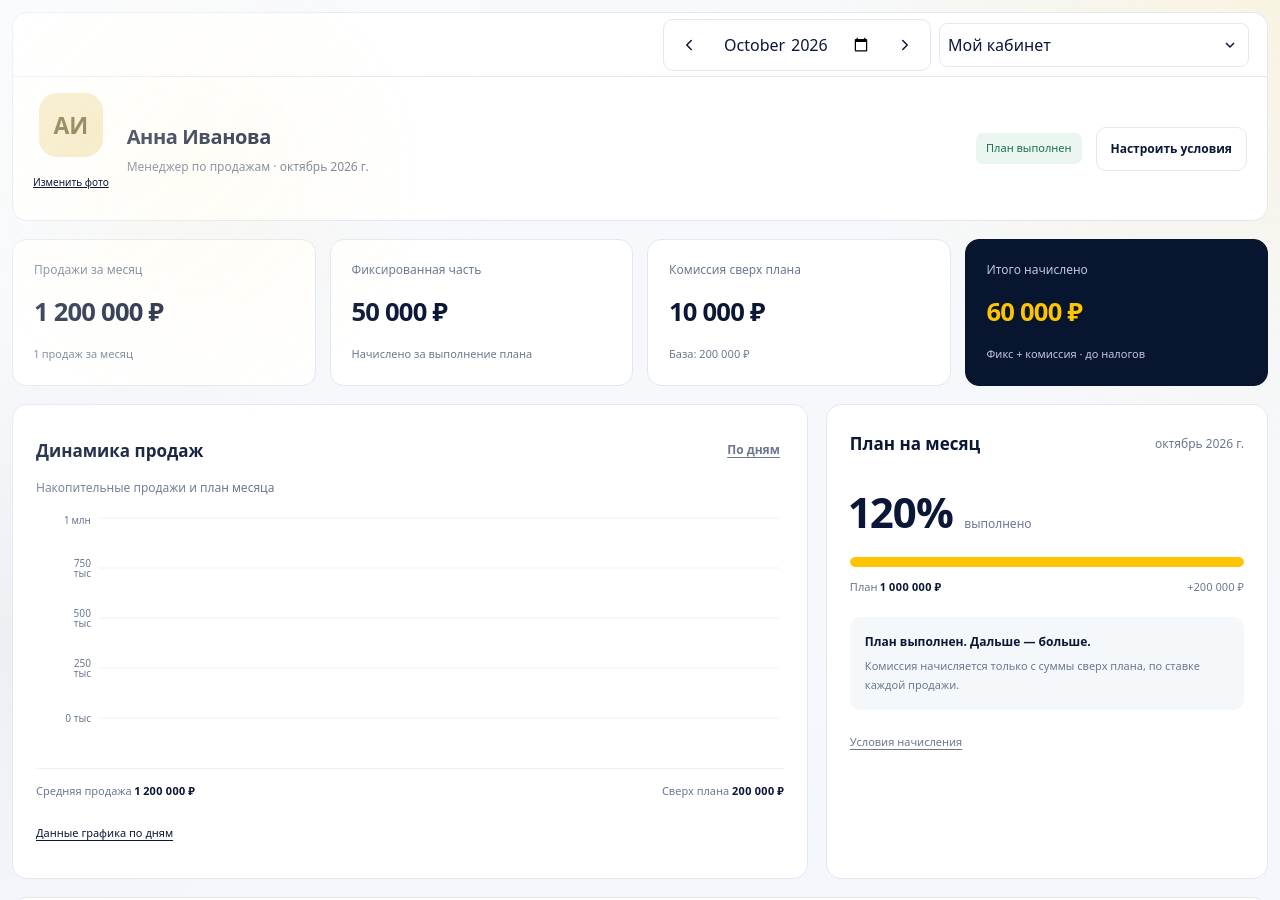
Test: manager cabinet async interactions › rejects a rate above 100 before showing a successful preview
Click the button "Настроить условия" at (1171, 148), box [1096, 126, 1247, 170]
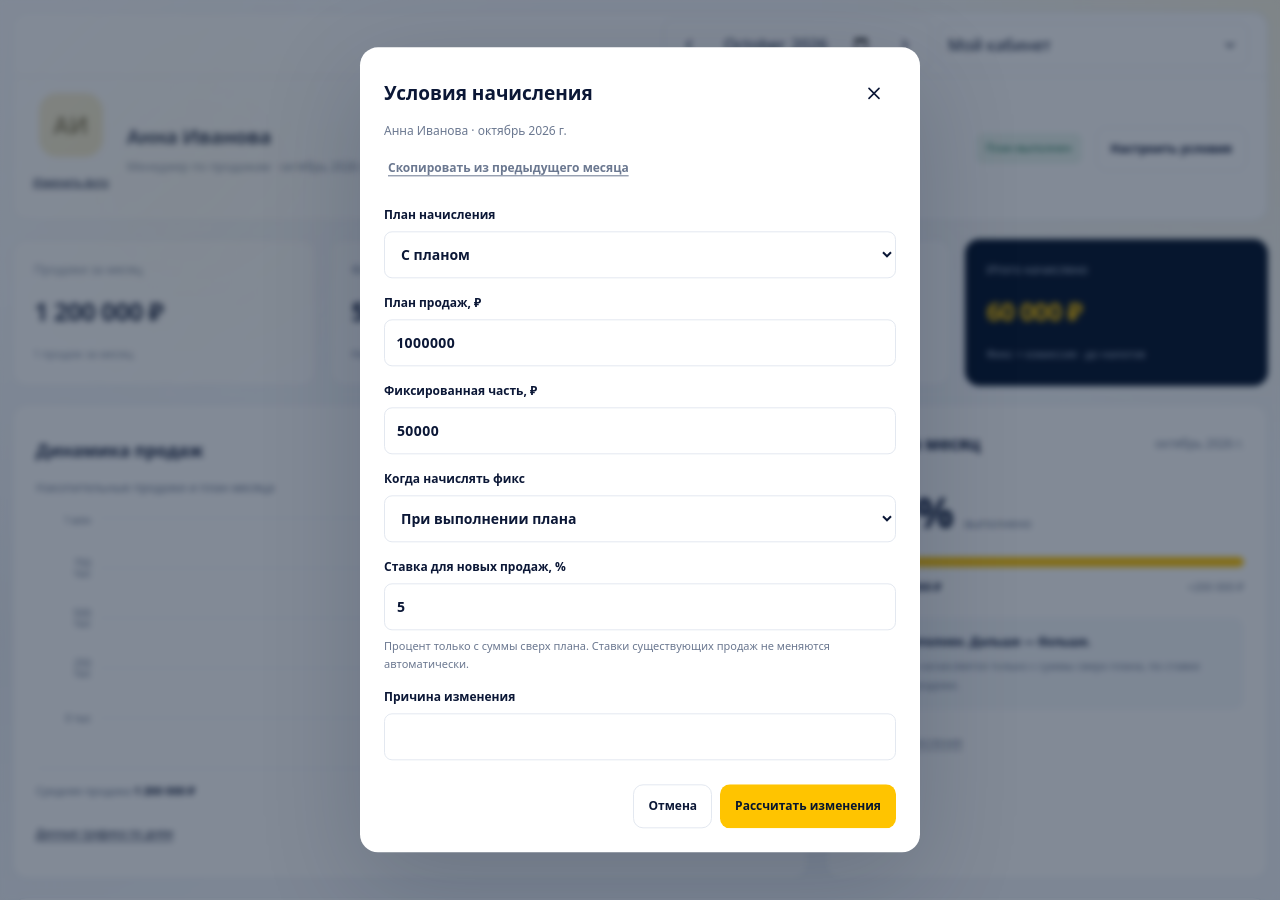
Type "Проверка ставки" into the field labelled "Причина изменения" at (640, 737), box [384, 714, 896, 761]
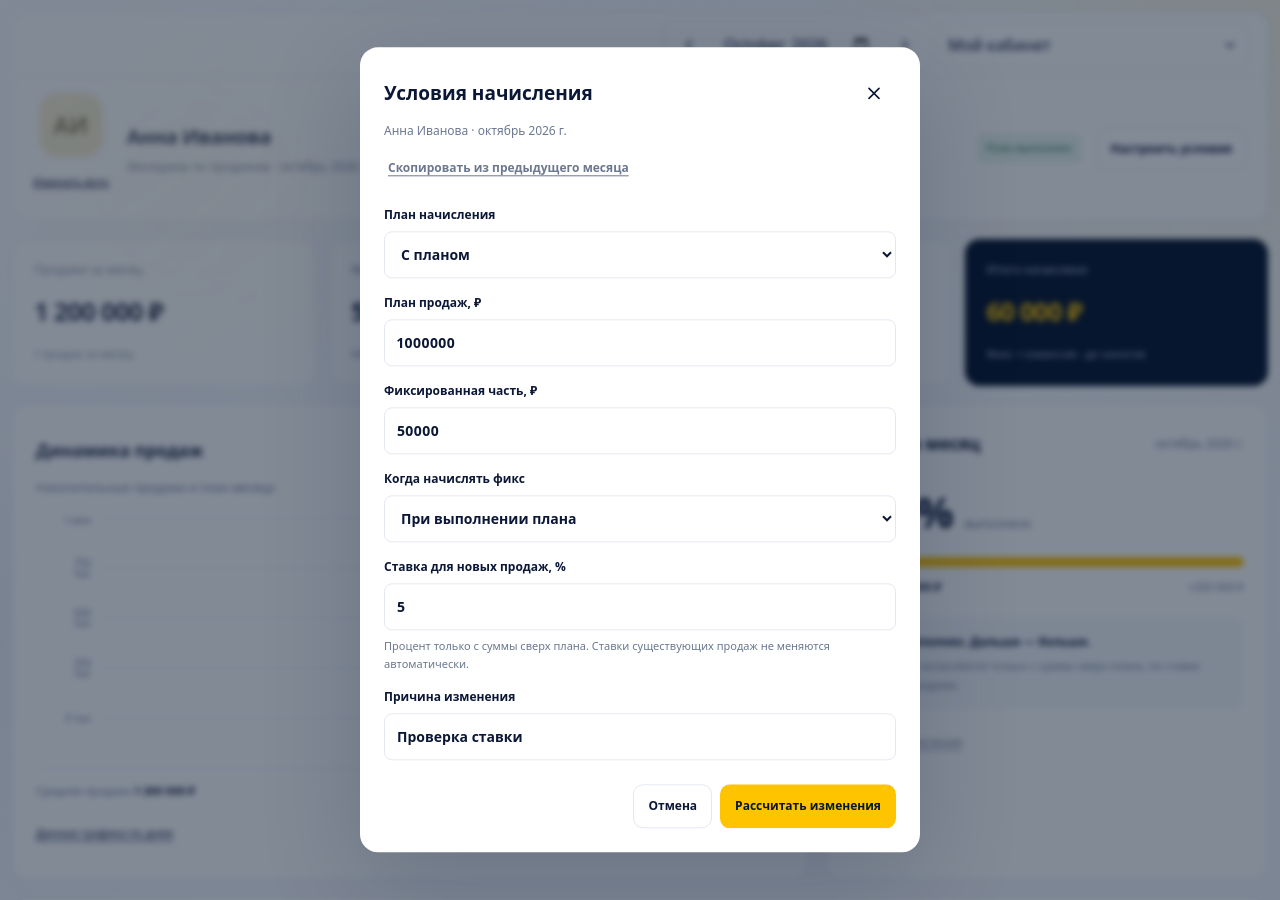
Replace the text in the field labelled "Ставка для новых продаж" with "101" at (640, 607), box [384, 584, 896, 630]
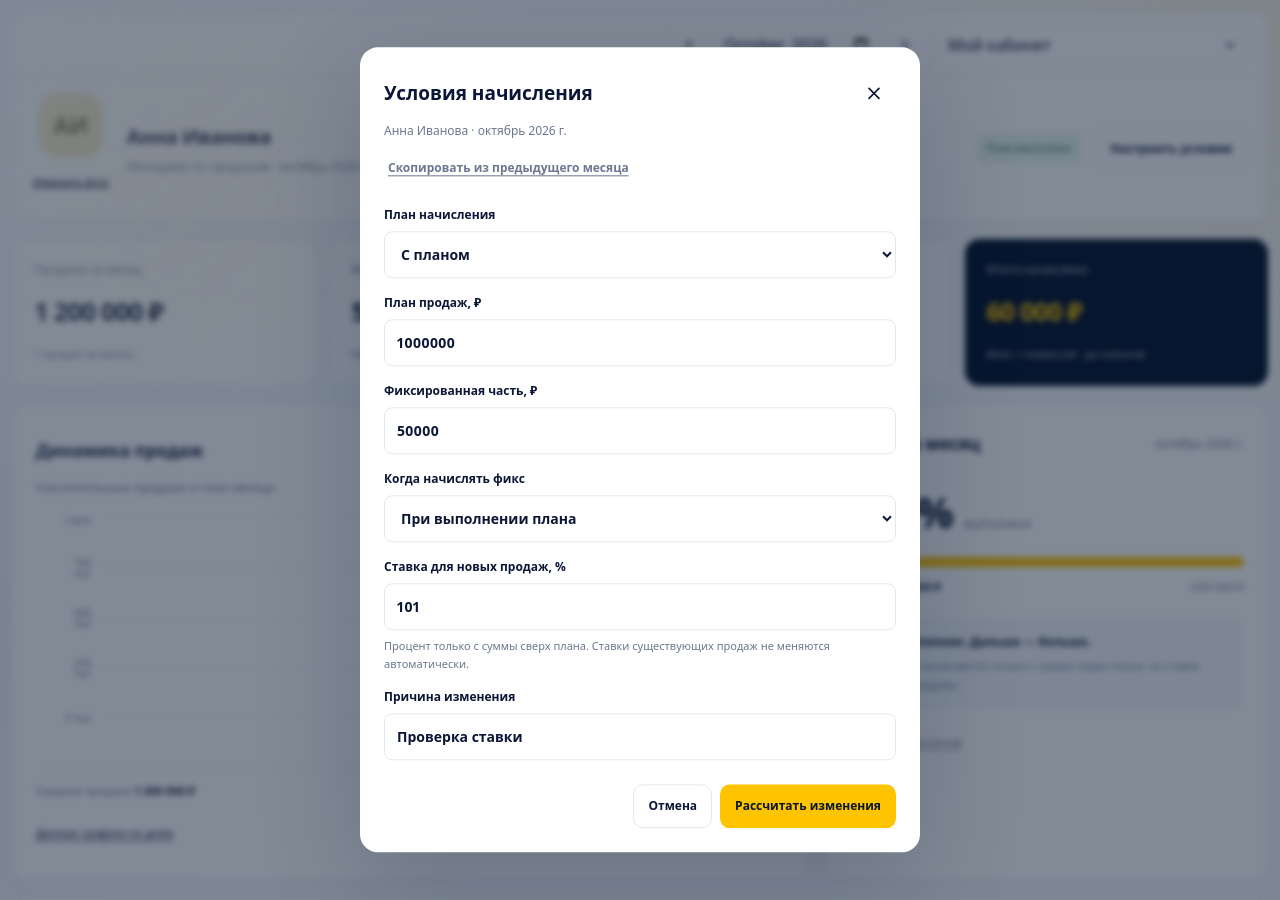
Click the button "Рассчитать изменения" at (808, 807), box [720, 785, 896, 829]
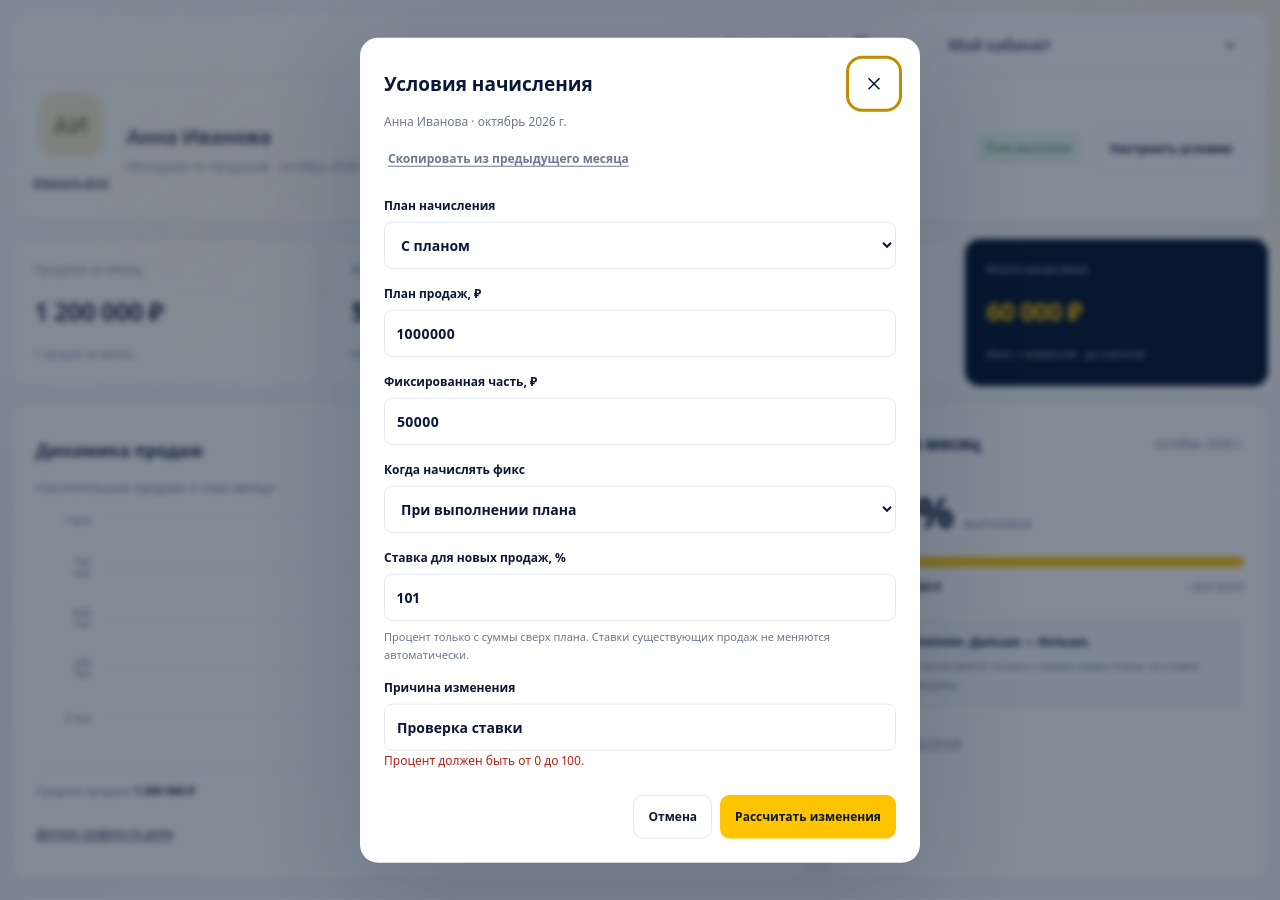
Check: the message reads "Процент должен быть от 0 до 100.", box [384, 752, 584, 769]
